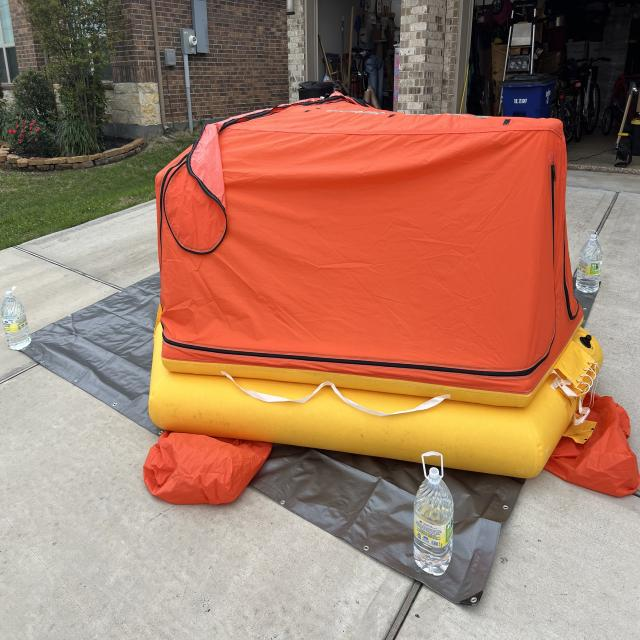Multi-person_life_raft: (144, 90, 639, 506)
